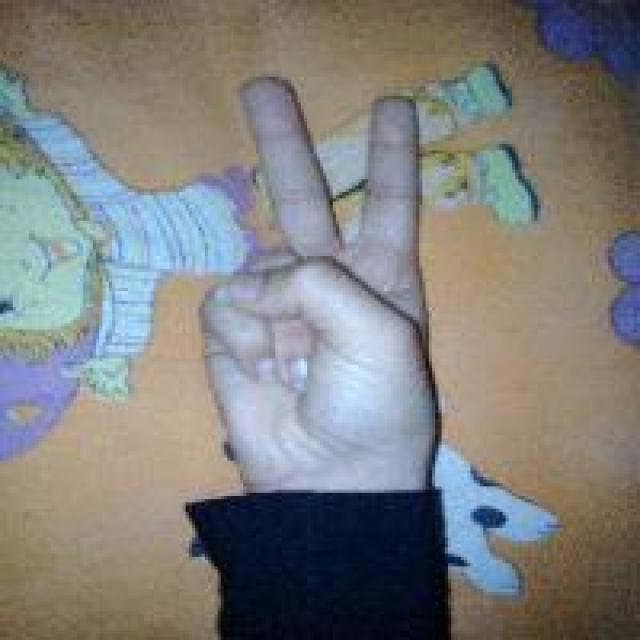V: (194, 61, 440, 502)
